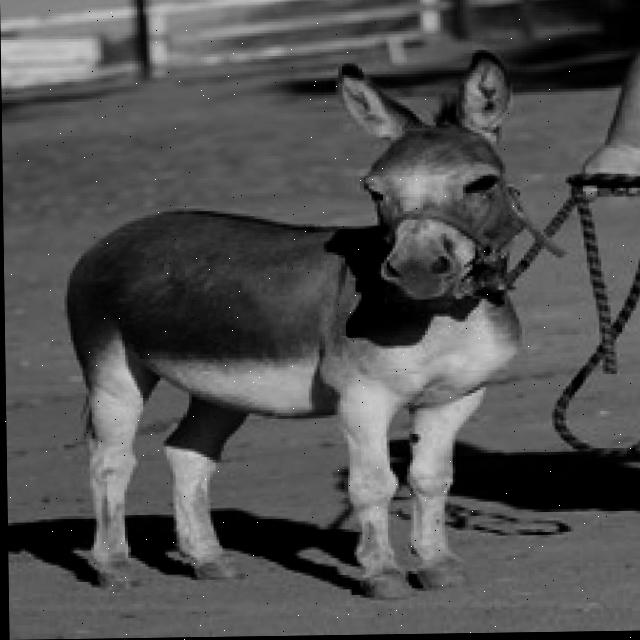Donkey: (58, 47, 529, 605)
